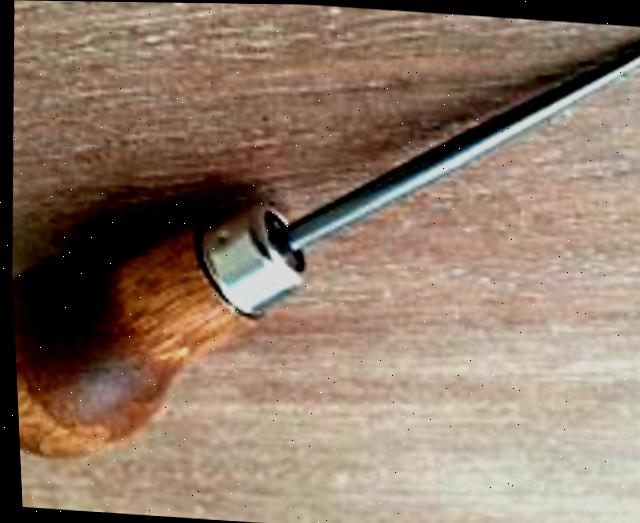ice pick: (0, 0, 640, 494)
